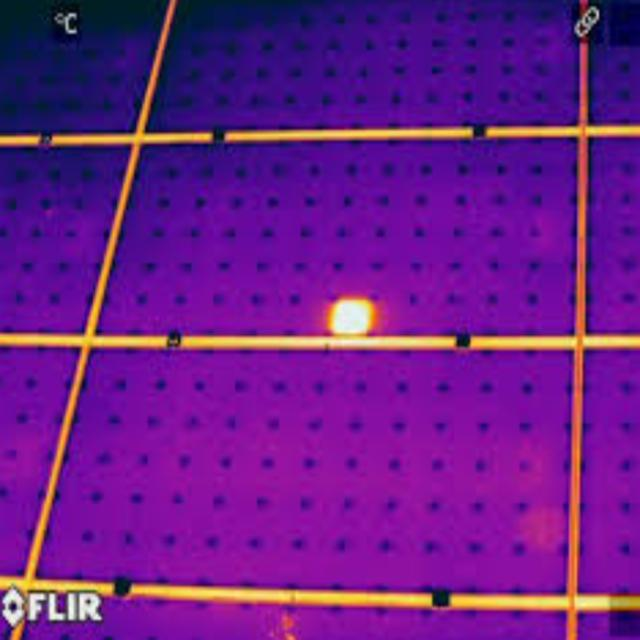hotspot group: (322, 287, 379, 337)
panel with hotspots: (88, 129, 585, 347)
